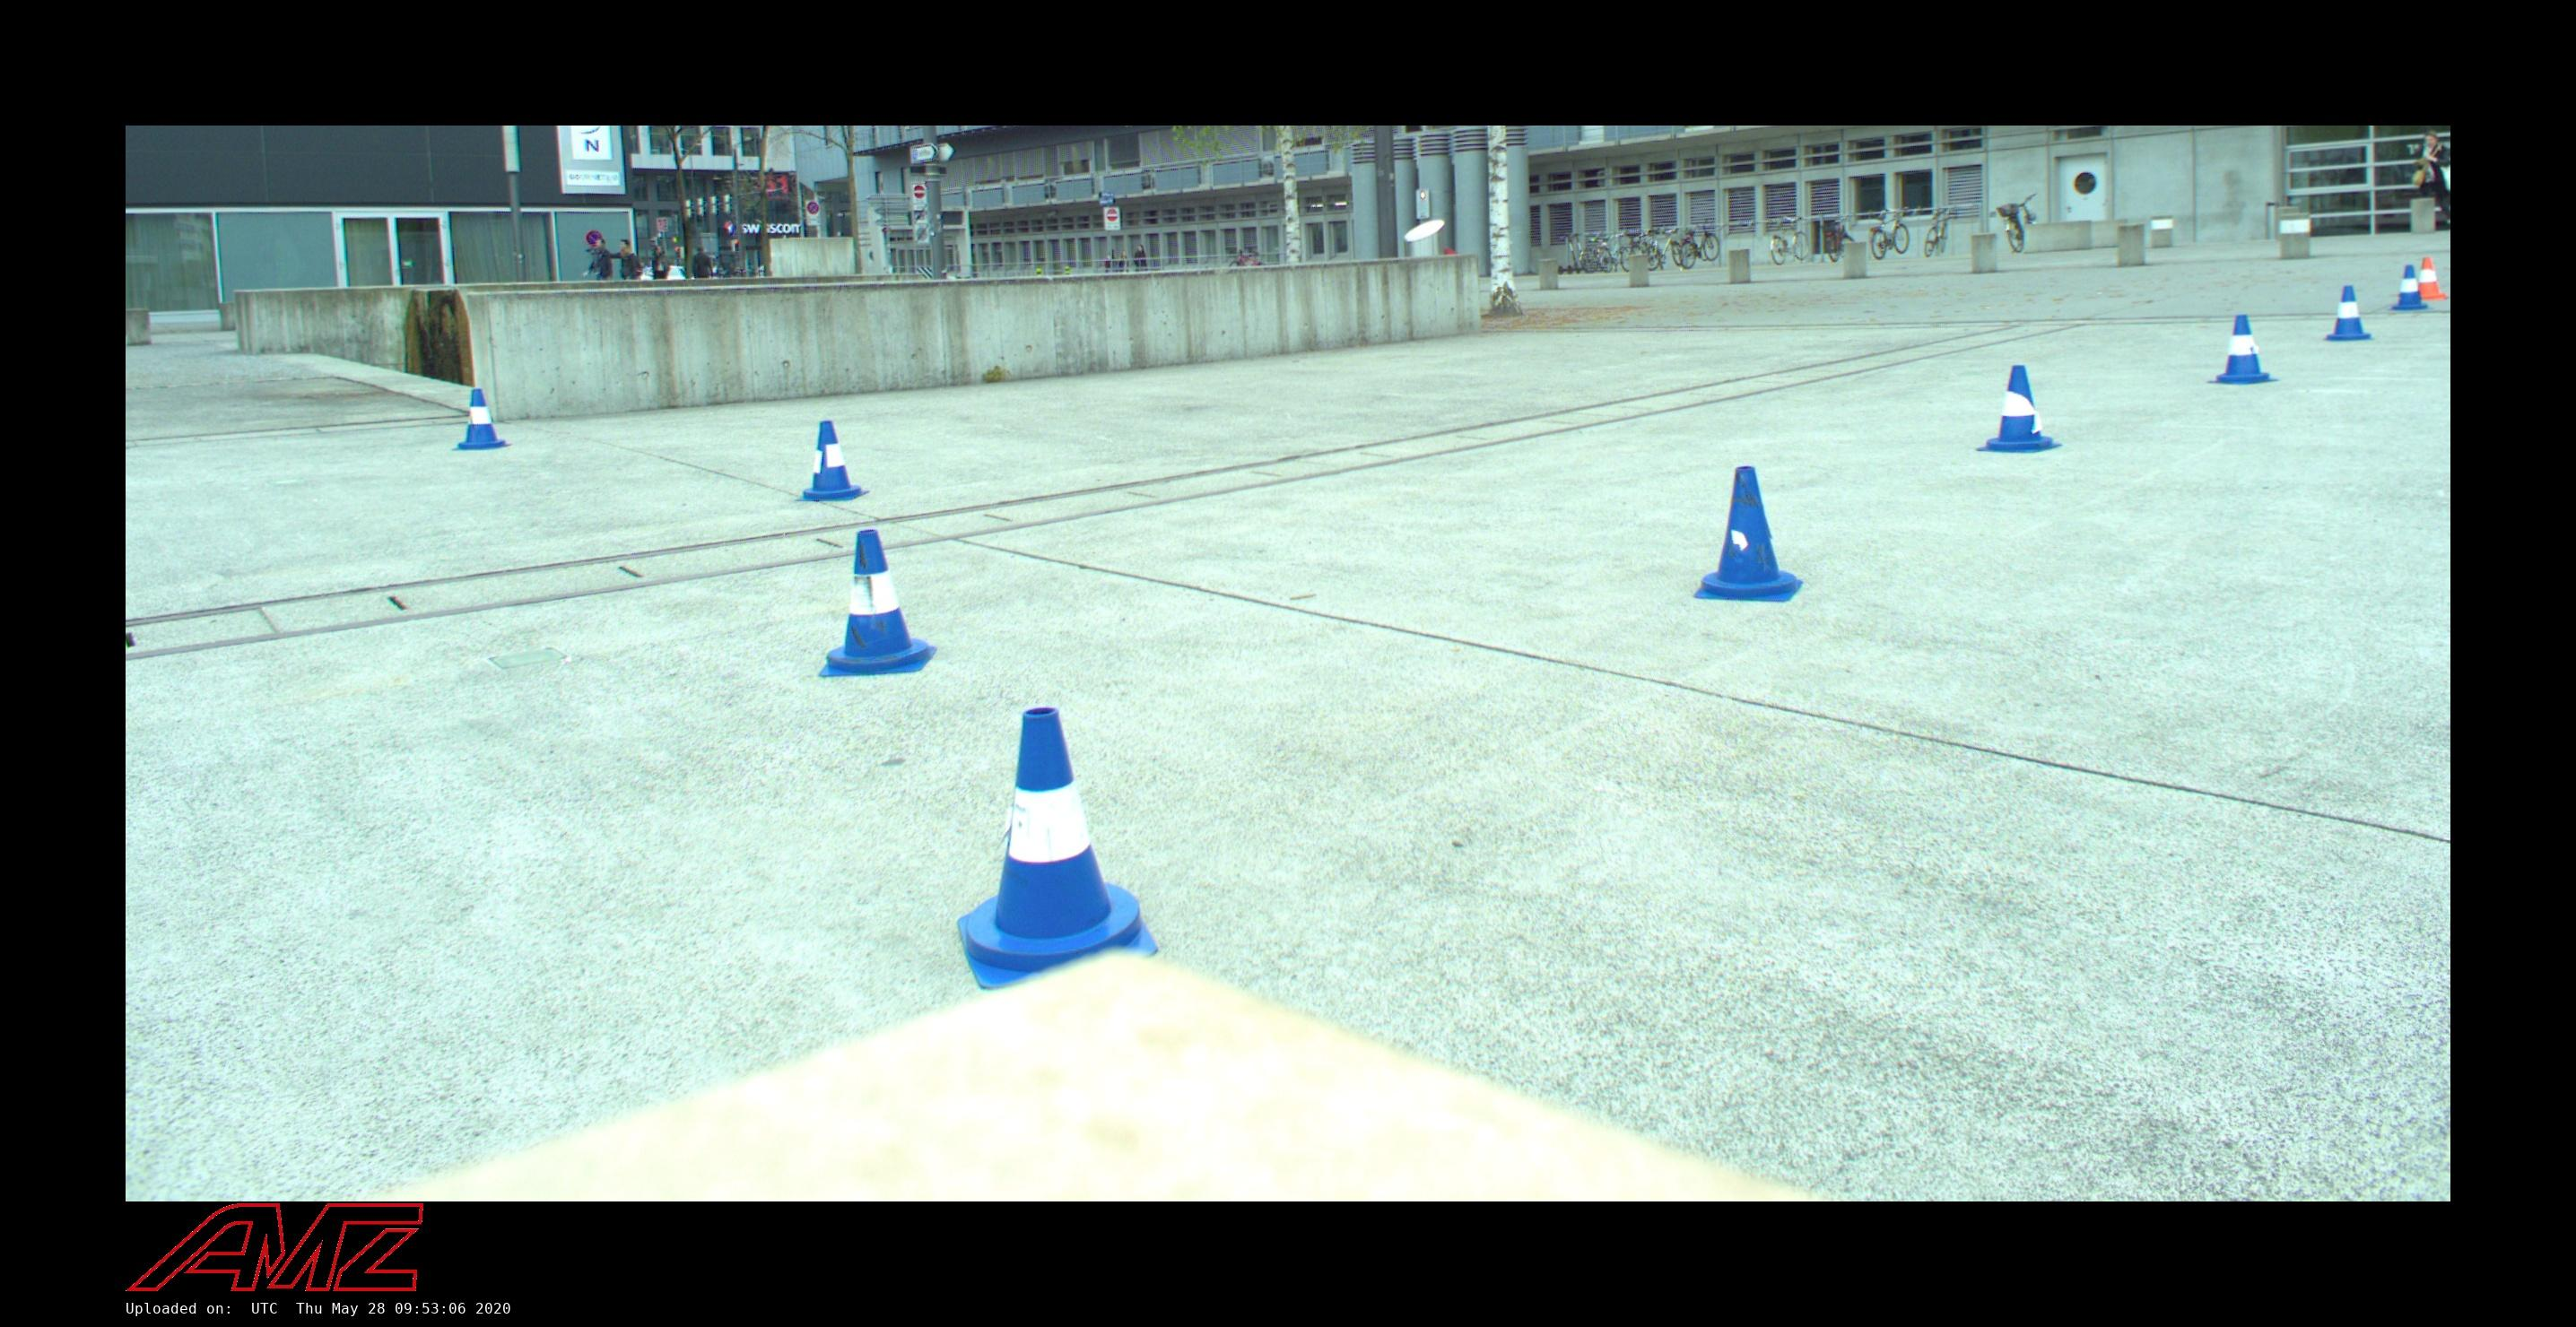blue_cone: (955, 708, 1158, 991), (818, 529, 937, 676), (1693, 466, 1803, 602), (1976, 366, 2062, 454), (796, 421, 869, 501), (2207, 315, 2280, 385), (452, 389, 512, 450), (2323, 286, 2374, 341), (2390, 265, 2428, 310)
orange_cone: (2417, 257, 2449, 300)
